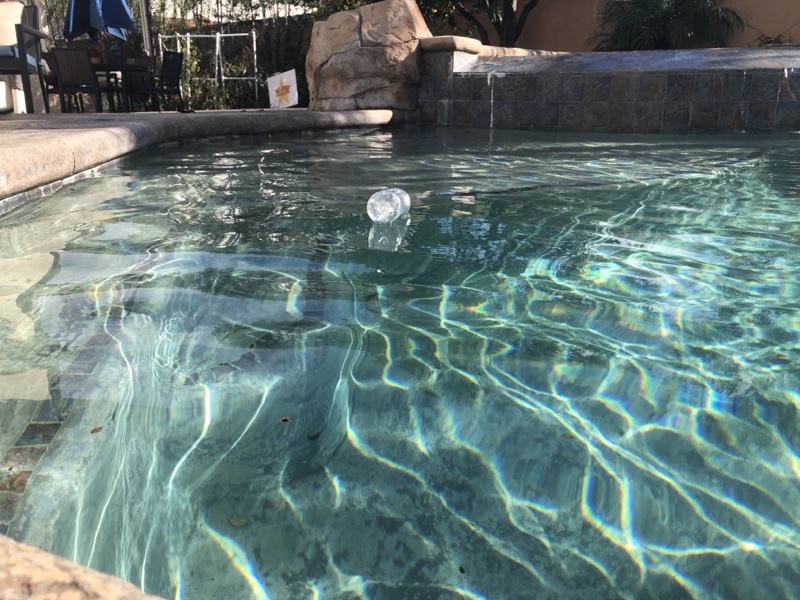Plastic Bottle: (364, 184, 414, 223)
